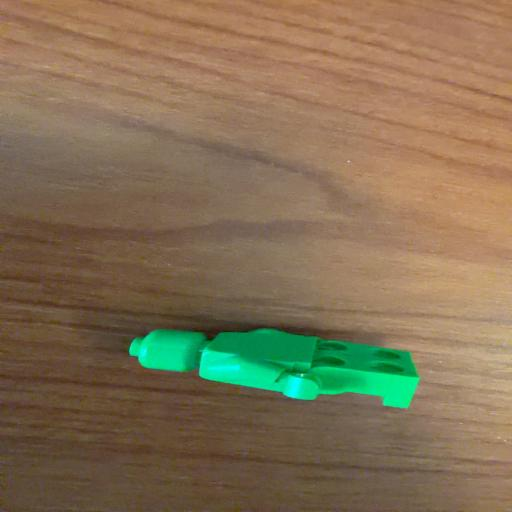UnoQ-minifig-detector: (130, 329, 418, 407)
